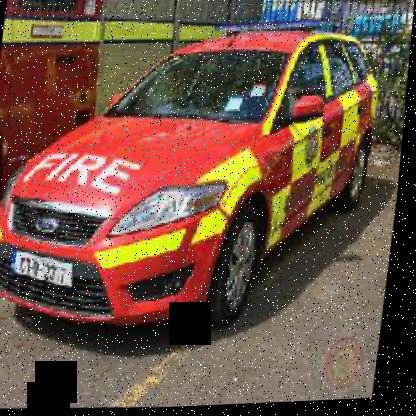emergency: (0, 9, 398, 361)
